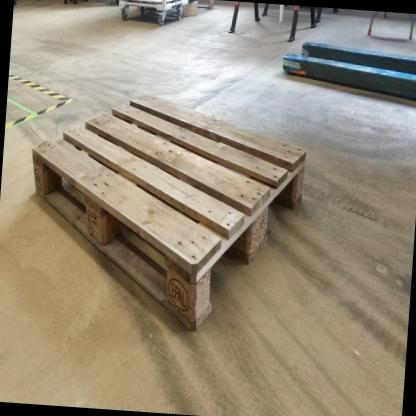BoxFace: (27, 88, 310, 341)
